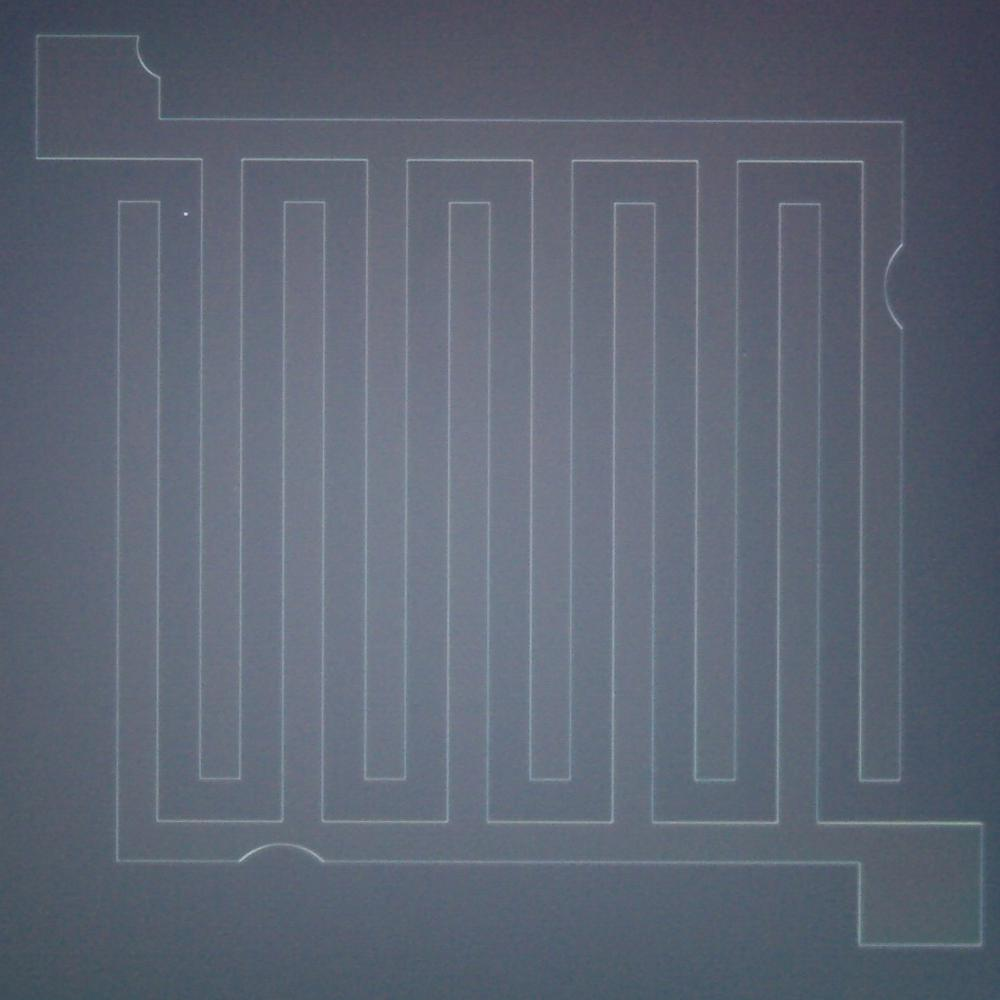dot: (184, 211, 188, 216)
